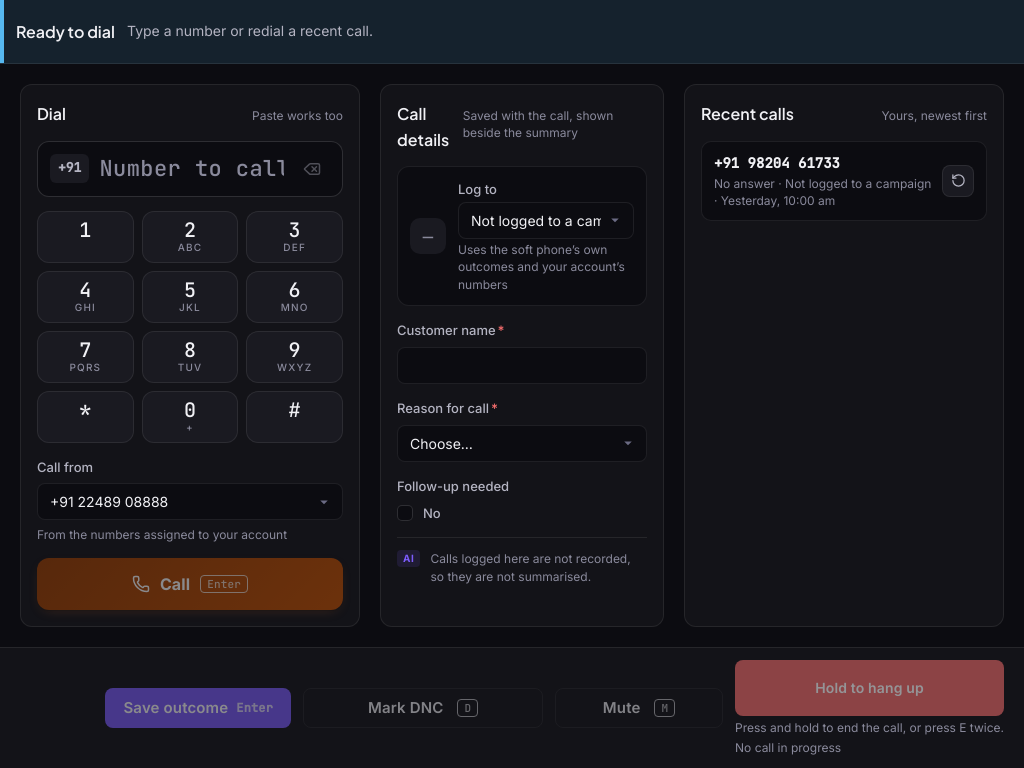
it: Ready › logs to a campaign: its caller IDs, its outcomes, and the tag on the request
Select "Home Loan Renewals" in the dropdown with test id "log-to-select" at [546, 220], box [458, 202, 634, 239]
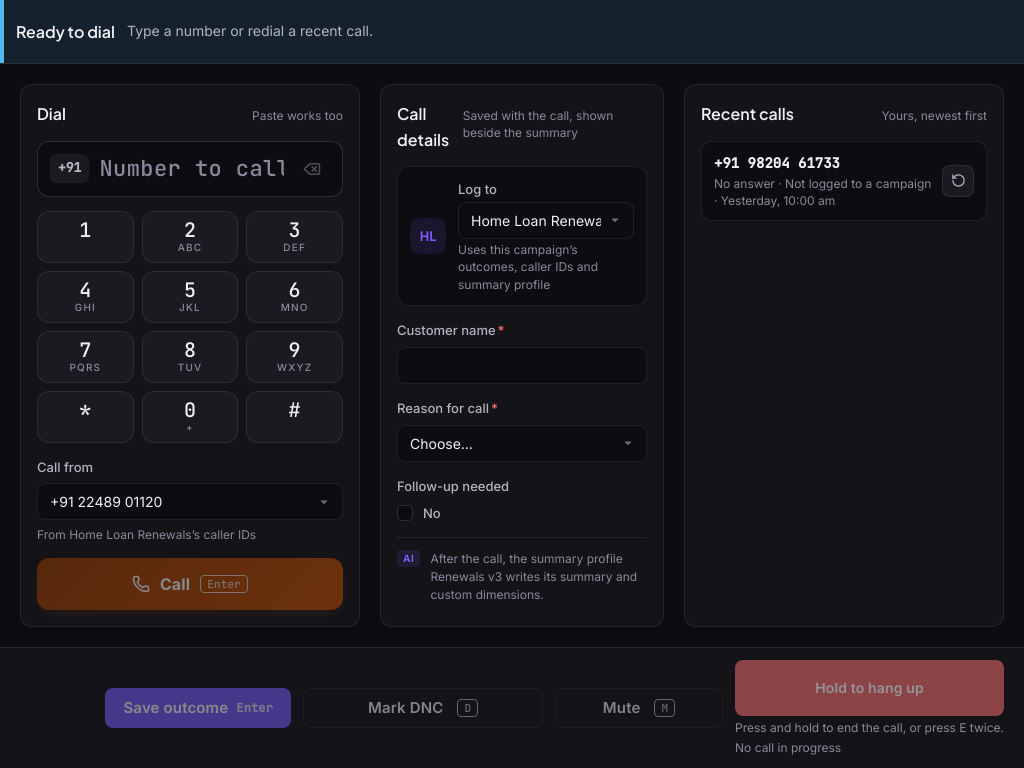
Type "9820461733" into the field with test id "dial-number" at [192, 169], box [99, 154, 284, 183]
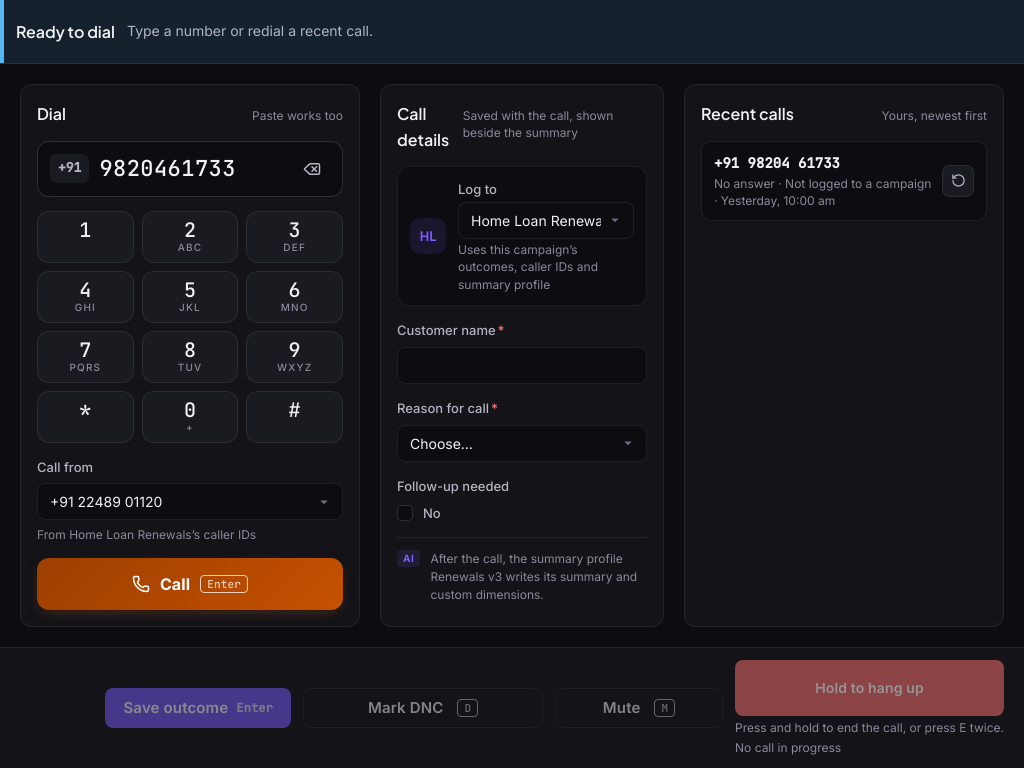
Click the button with test id "dial-call" at [190, 584], box [37, 558, 343, 610]
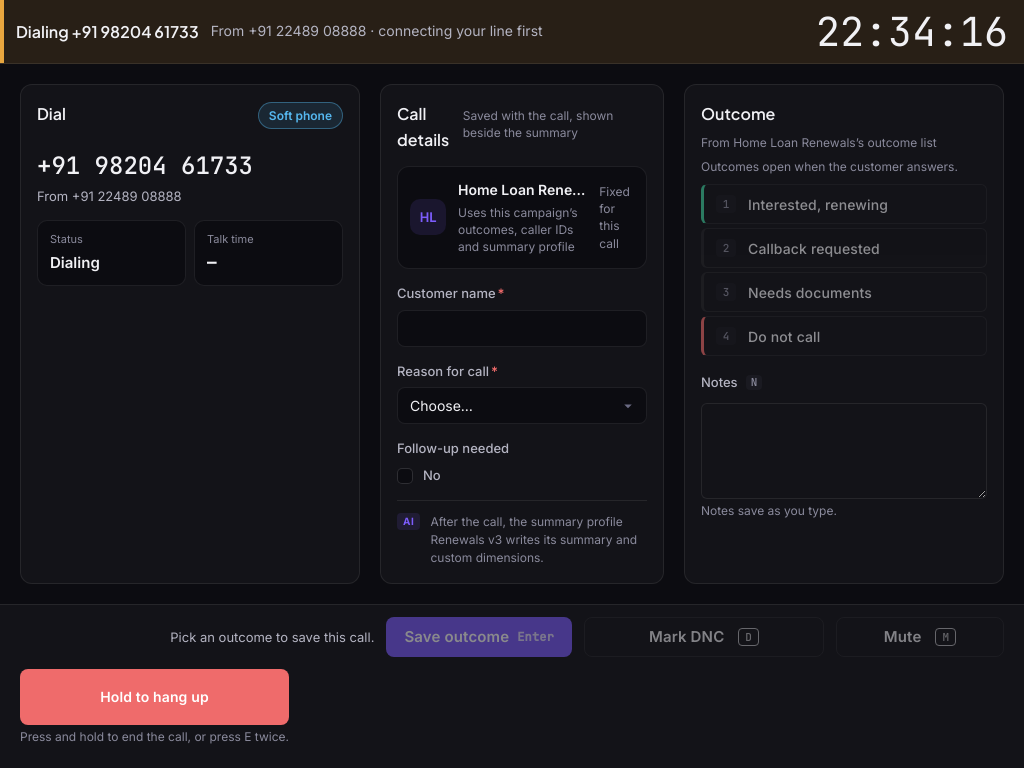
Result: the dropdown with test id "log-to-select" is gone
Result: the text with test id "log-to-fixed" reads "Home Loan Renewals" at [458, 181, 603, 198]
